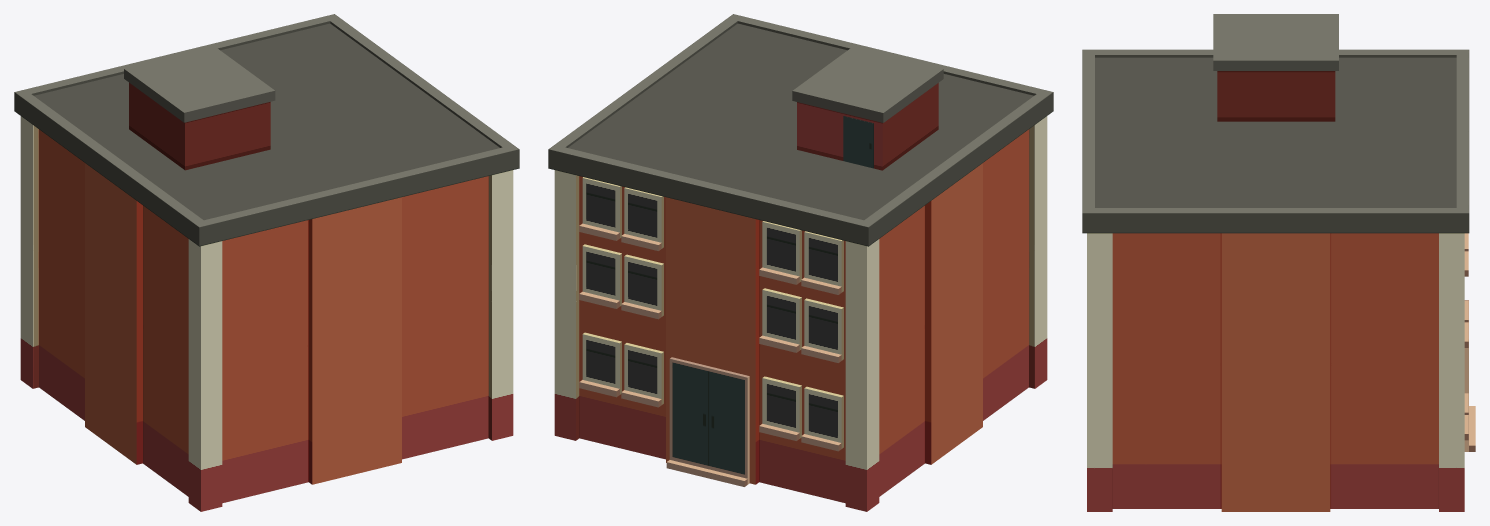
File: apartment_small_mesh.fbx
3 renders of one model, left to right at view 1: azimuth 30°, elevation 25°; view 2: azimuth 150°, elevation 25°; view 3: azimuth 270°, elevation 25°, orthographic. The views are drawn at different scales.
Parts seen in each view (by area): view 1: apartment_small_mesh; view 2: apartment_small_mesh; view 3: apartment_small_mesh.
Boxes of the visible parts, x1,y1,x2,y2 form: apartment_small_mesh: (14, 14, 519, 511); apartment_small_mesh: (548, 14, 1053, 511); apartment_small_mesh: (1082, 14, 1475, 511).
Bounding box in the file's own units: 11.63 × 11.95 × 11.82.
